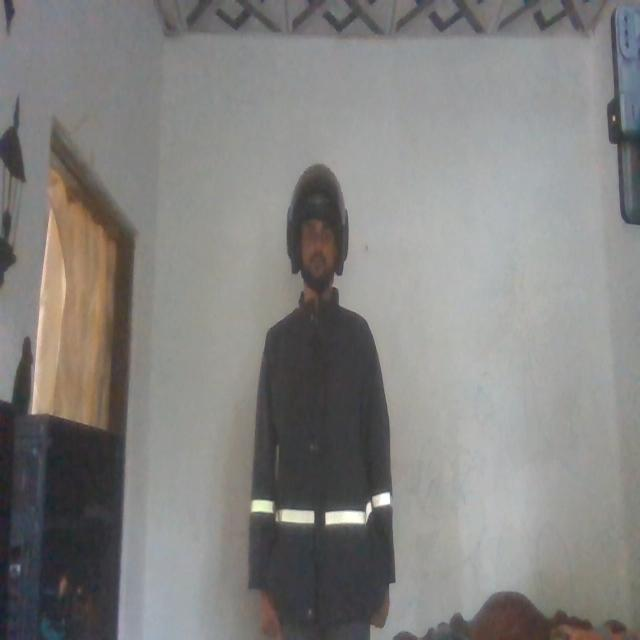Helmet_Wearer: (271, 160, 343, 292)
Jacket_Wearer: (255, 294, 391, 640)
Person: (251, 171, 403, 633)
